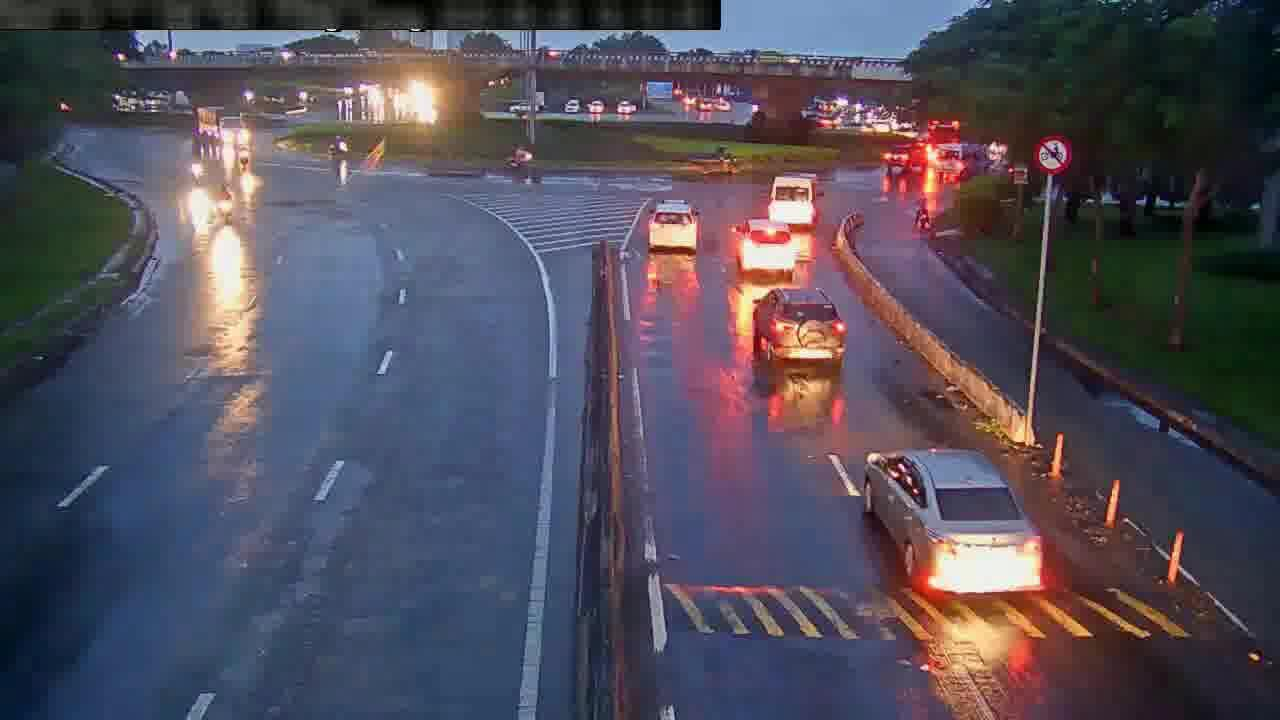14: (771, 165, 825, 225)
container: (863, 447, 1045, 598), (749, 290, 845, 367), (731, 221, 798, 279)
